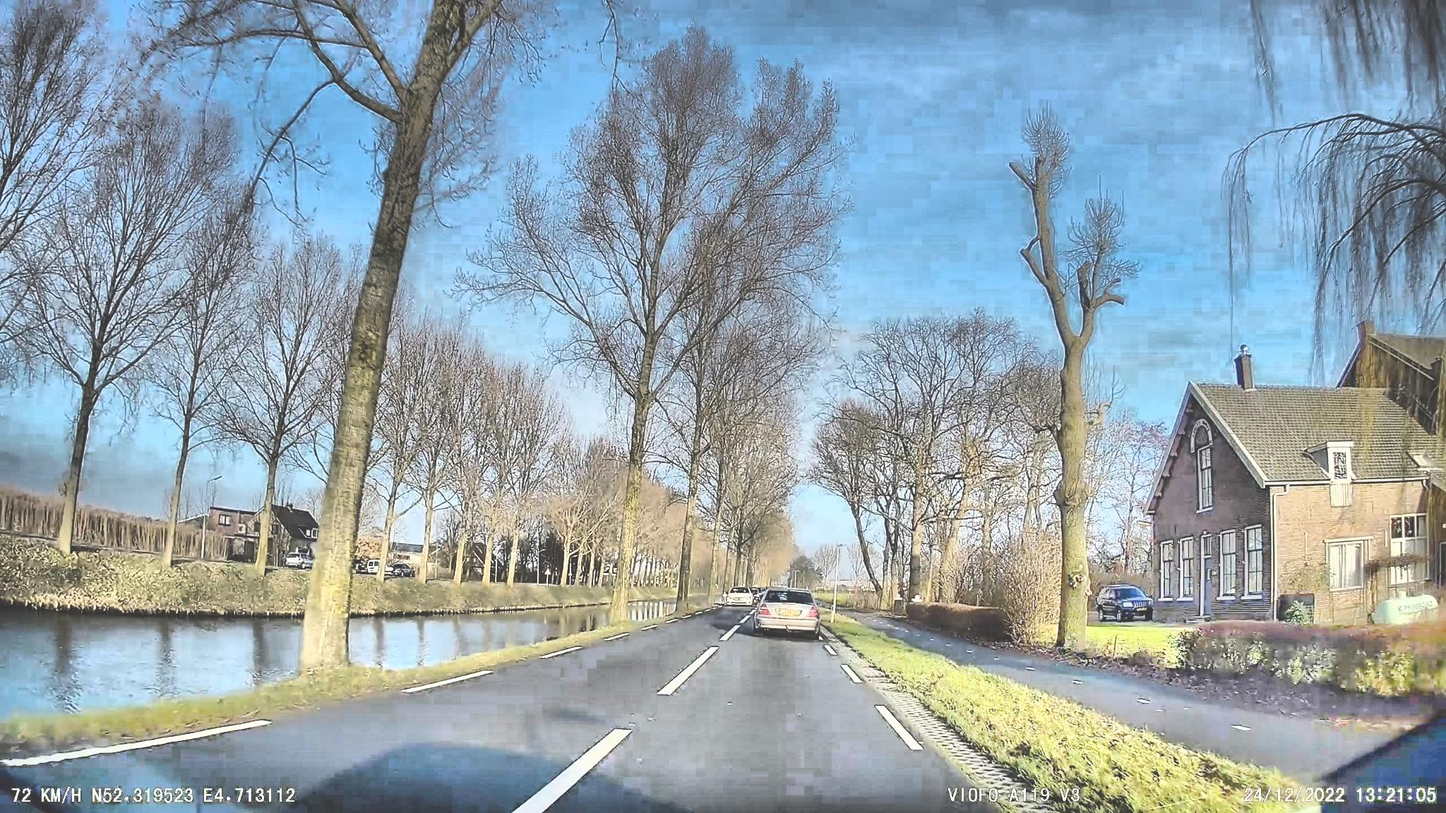Roads: (0, 611, 1057, 813)
